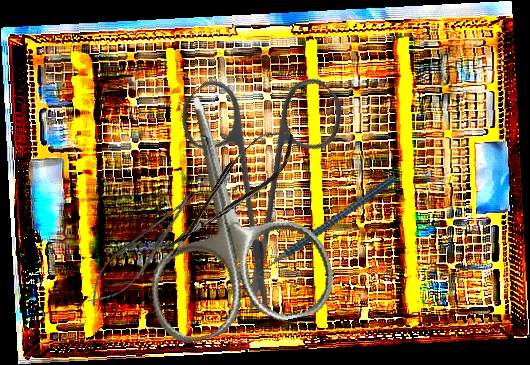Chopper: (232, 175, 415, 291)
Iris Scissors: (113, 22, 410, 320), (109, 76, 341, 349)
Micro Scissor: (150, 119, 307, 265)
Needle Holder: (78, 180, 208, 317)
